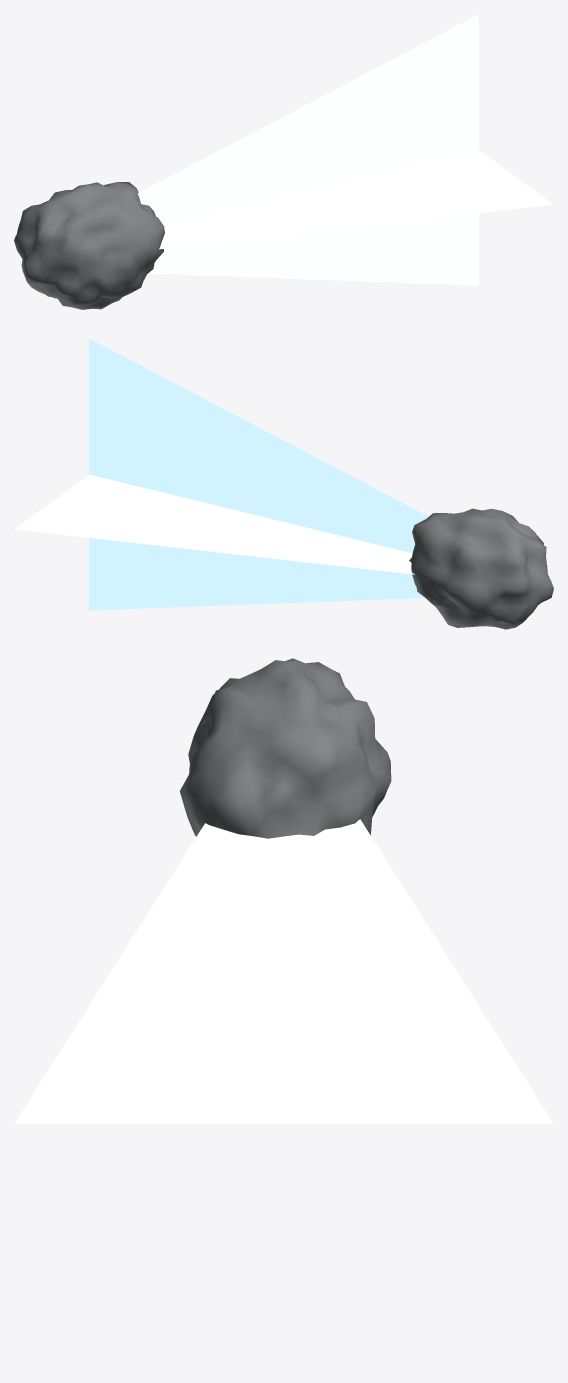
File: comet.glb
The picture shows the model from 3 angles, top to bottom: view 1: azimuth 30°, elevation 25°; view 2: azimuth 150°, elevation 25°; view 3: azimuth 270°, elevation 25°; orthographic projection. The views are drawn at different scales.
Visible parts, largest first — view 1: Tail_Billboard_Z, Tail_Billboard_Y, Comet_Nucleus; view 2: Tail_Billboard_Z, Tail_Billboard_Y, Comet_Nucleus; view 3: Tail_Billboard_Y, Comet_Nucleus.
Boxes of the visible parts, x1,y1,x2,y2 form: Tail_Billboard_Z: [137, 14, 478, 285]; Tail_Billboard_Y: [159, 150, 553, 249]; Comet_Nucleus: [14, 182, 164, 309]; Tail_Billboard_Z: [89, 338, 428, 610]; Tail_Billboard_Y: [14, 474, 414, 574]; Comet_Nucleus: [409, 508, 553, 629]; Tail_Billboard_Y: [14, 819, 553, 1123]; Comet_Nucleus: [180, 658, 391, 838].
Bounding box in the file's own units: 7.05 × 4 × 4.
Materials: 2 (1 with a texture image).
